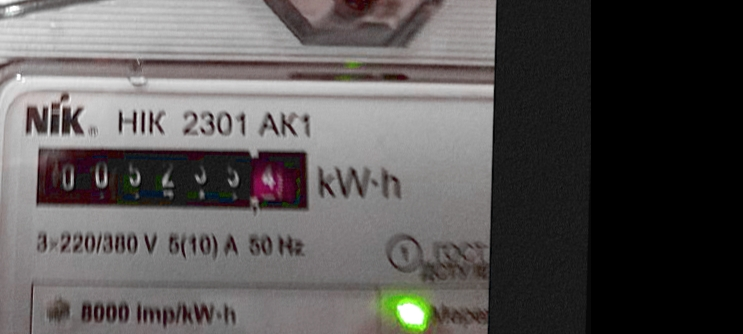0: (92, 157, 113, 191), (60, 160, 79, 192)
2: (159, 156, 180, 191)
3: (191, 155, 215, 188)
4: (259, 157, 282, 193)
5: (225, 155, 247, 191), (127, 156, 146, 190)
screen: (21, 130, 325, 225)
